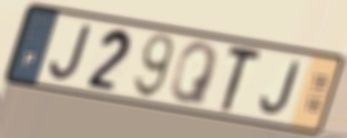2: (82, 25, 135, 96)
9: (130, 32, 176, 101)
J: (47, 21, 95, 83), (258, 58, 303, 117)
Q: (167, 40, 221, 108)
T: (218, 45, 266, 115)
